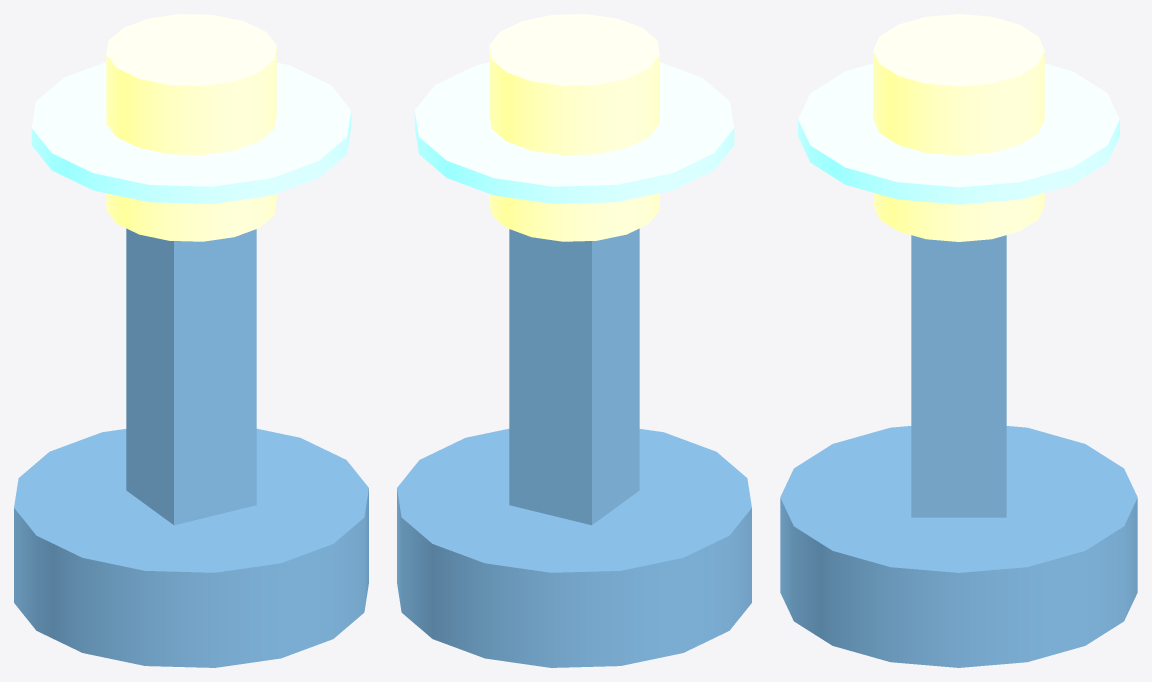
Rendered from star-beacon.glb.
The picture shows the model from 3 angles, left to right: view 1: azimuth 30°, elevation 25°; view 2: azimuth 150°, elevation 25°; view 3: azimuth 270°, elevation 25°; orthographic projection.
Parts seen in each view (by area): view 1: BASE, TOWER, STAR_CORE, SIGNAL; view 2: BASE, TOWER, STAR_CORE, SIGNAL; view 3: BASE, STAR_CORE, TOWER, SIGNAL.
Boxes of the visible parts, x1,y1,x2,y2 form: BASE: (14,428,368,667); TOWER: (126,228,256,525); STAR_CORE: (106,14,276,241); SIGNAL: (31,62,351,203); BASE: (397,428,751,667); TOWER: (509,228,639,525); STAR_CORE: (489,14,659,241); SIGNAL: (414,62,734,203); BASE: (780,426,1137,667); STAR_CORE: (873,14,1044,241); TOWER: (911,235,1006,517); SIGNAL: (798,63,1119,204).
Bounding box in the file's own units: 1.5 × 2.51 × 1.5.
